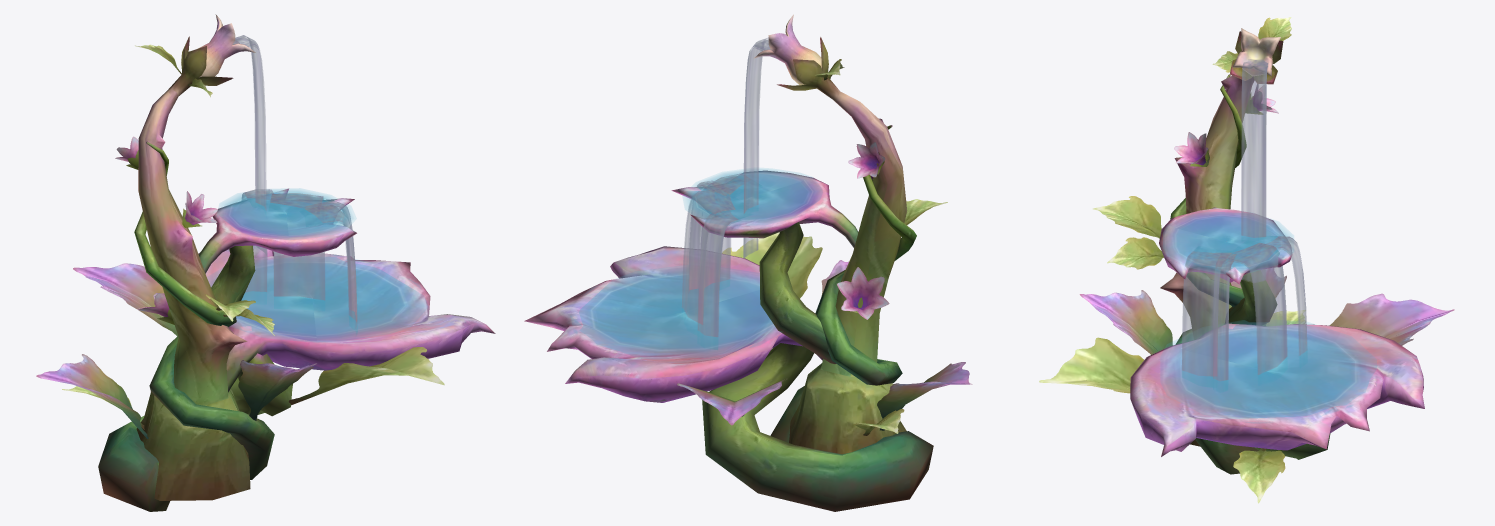
3 views of the same model, side by side, from view 1: azimuth 30°, elevation 25°; view 2: azimuth 150°, elevation 25°; view 3: azimuth 270°, elevation 25° (orthographic). The views are drawn at different scales.
Size of the model in its own units: 7.85 by 7.77 by 7.34.
Materials: 3 (3 with a texture image).
